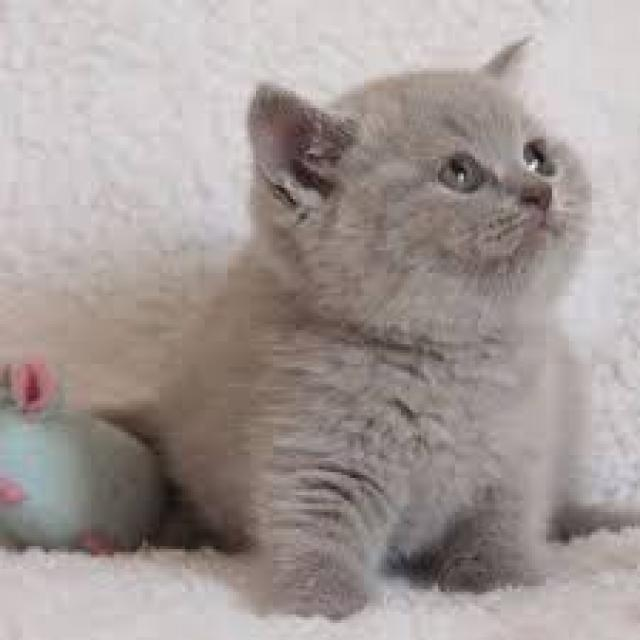Cat: (156, 33, 599, 621)
